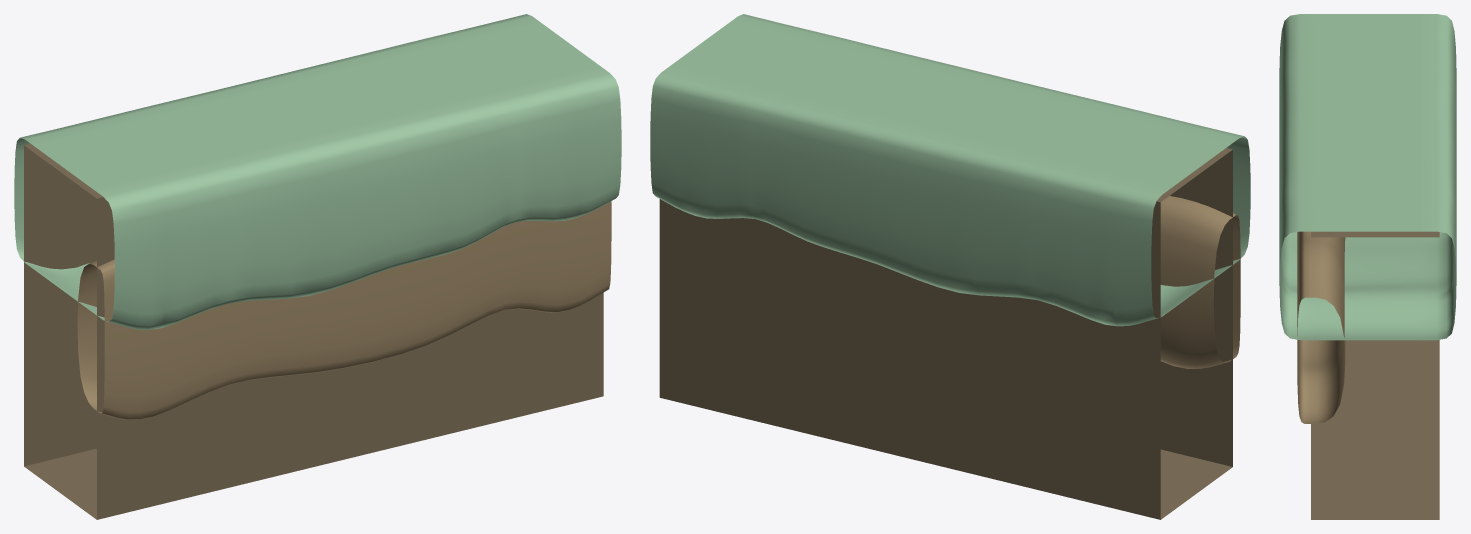
Rendered from terrains 1.fbx.
The picture shows the model from 3 angles, left to right: view 1: azimuth 30°, elevation 25°; view 2: azimuth 150°, elevation 25°; view 3: azimuth 270°, elevation 25°; orthographic projection. The views are drawn at different scales.
Parts seen in each view (by area): view 1: pCube7, pCube8, pCube9; view 2: pCube7, pCube8, pCube9; view 3: pCube7, pCube8, pCube9.
Part boxes in pixels (x1,y1,x2,y2): pCube7: (14, 14, 621, 329); pCube8: (24, 143, 603, 519); pCube9: (77, 201, 611, 419); pCube7: (650, 14, 1250, 326); pCube8: (659, 148, 1232, 519); pCube9: (1160, 196, 1240, 368); pCube7: (1279, 14, 1456, 340); pCube8: (1311, 231, 1439, 519); pCube9: (1297, 231, 1345, 423).
Bounding box in the file's own units: 40 × 24.72 × 13.75.
